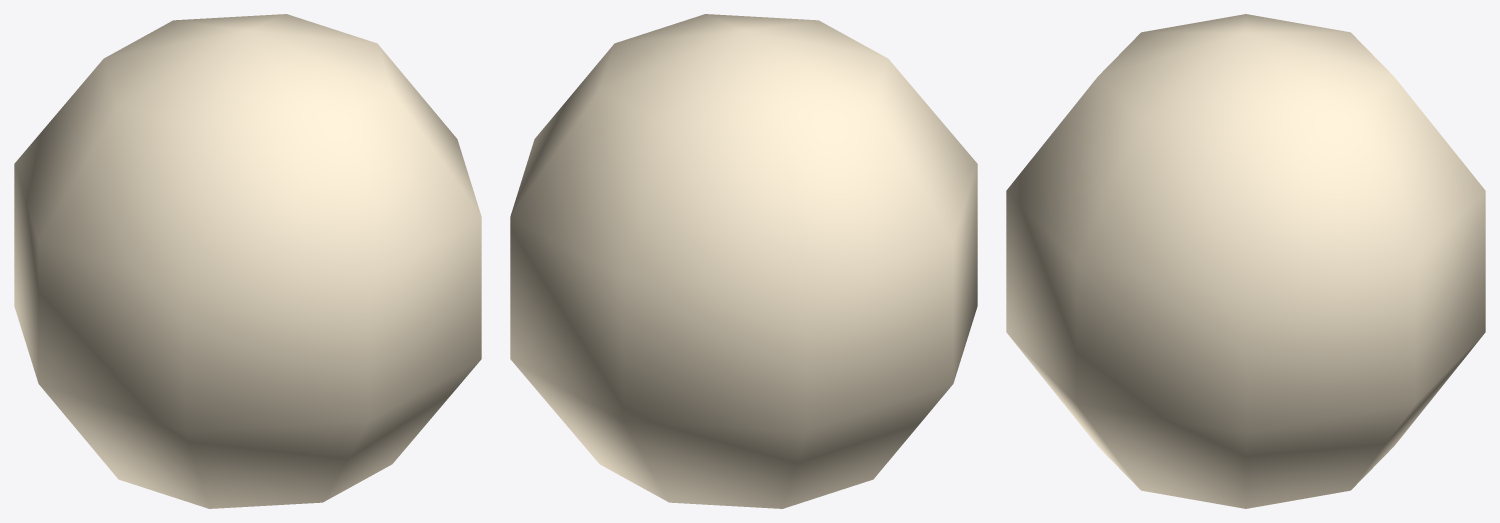
Rendered from bne_afl_white.dae.
3 views of the same model, side by side, from view 1: azimuth 30°, elevation 25°; view 2: azimuth 150°, elevation 25°; view 3: azimuth 270°, elevation 25° (orthographic).
Parts seen in each view (by area): view 1: glow2; view 2: glow2; view 3: glow2.
Boxes of the visible parts, bbox=[...] form: glow2: bbox=[14, 14, 481, 508]; glow2: bbox=[510, 14, 977, 508]; glow2: bbox=[1006, 14, 1485, 508].
Size of the model in its own units: 4.79 by 4.79 by 5.04.
